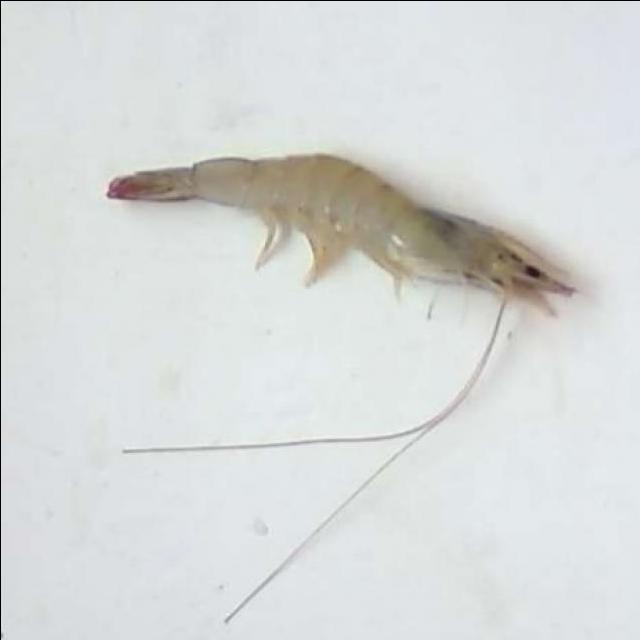shrimp: (106, 156, 575, 301)
